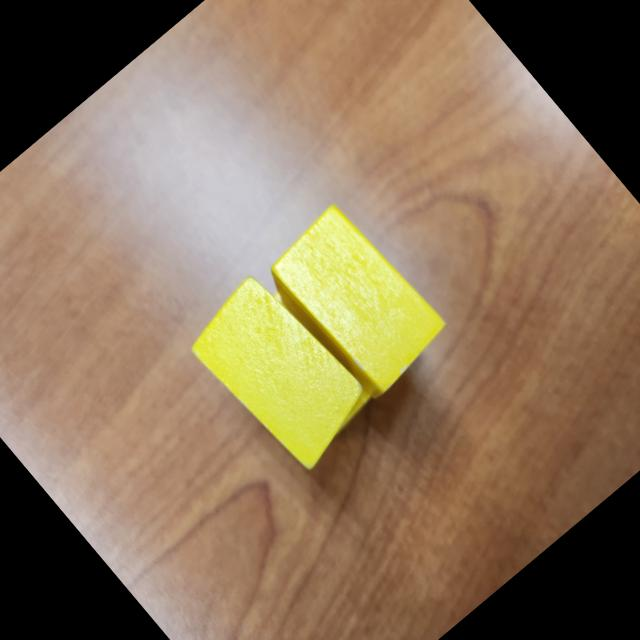yellow: (179, 263, 386, 479), (255, 194, 456, 404), (232, 278, 384, 440)
